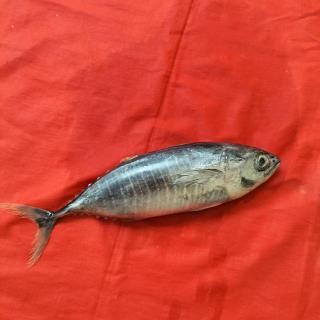Ikan: (9, 139, 284, 271)
